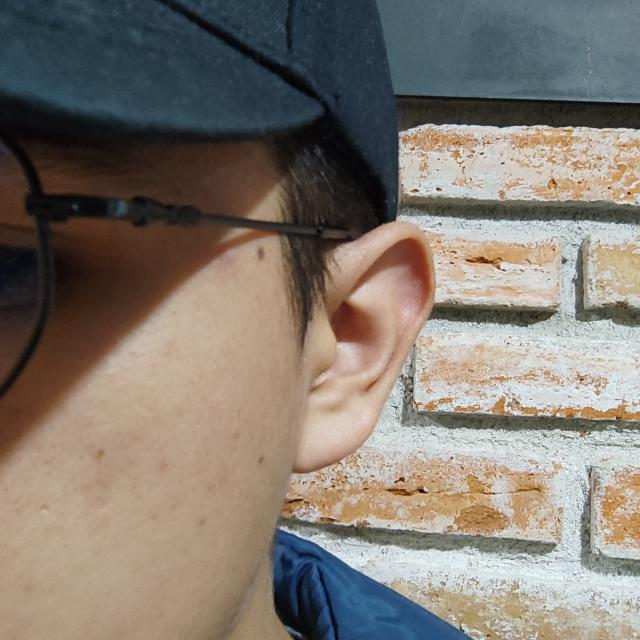ear: (289, 222, 434, 472)
